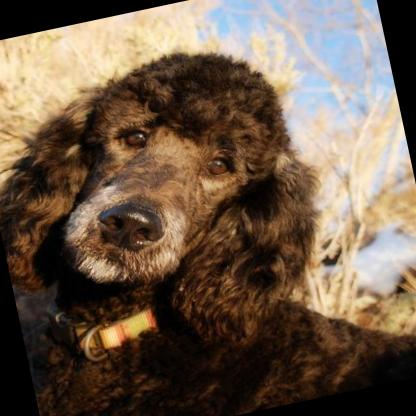standard_poodle: (0, 6, 416, 416)
